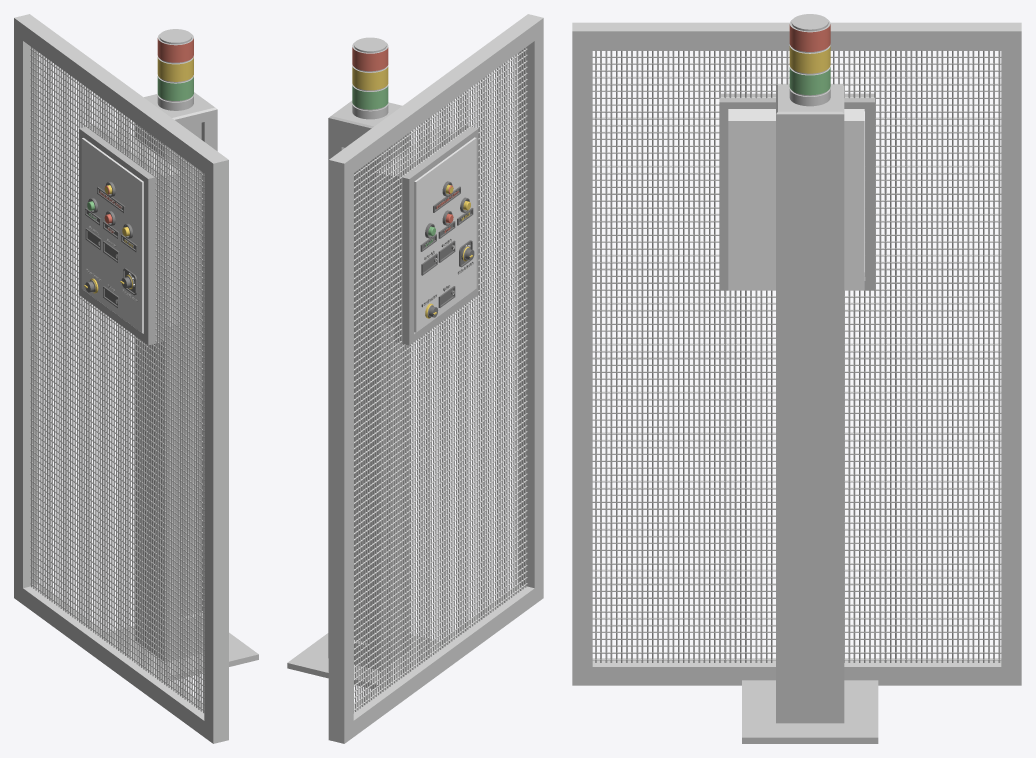
The model's file is Grid_control.glb.
The picture shows the model from 3 angles, left to right: view 1: azimuth 30°, elevation 25°; view 2: azimuth 150°, elevation 25°; view 3: azimuth 270°, elevation 25°; orthographic projection. The views are drawn at different scales.
Visible parts, largest first — view 1: Body1.001, Body2, Body1, Body108, Body66, Body59, Body8.001, Body15.001, Body76, Body69, Body18.001, Body3 (+69 smaller); view 2: Body1.001, Body2, Body1, Body108, Body3, Body12.001, Body19.001, Body70, Body77, Body63, Body9.001, Body26.001 (+69 smaller); view 3: Body1.001, Body2, Body1, Body3, Body108, Body24.001, Body20.001, Body18.001, Body13.001, Body8.001, Body14.001, Body2.001 (+55 smaller).
Boxes of the visible parts, box(x1,y1,x2,y2) form: Body1.001: box(14, 14, 228, 743); Body2: box(135, 29, 217, 661); Body1: box(81, 129, 179, 332); Body108: box(79, 124, 163, 345); Body66: box(177, 154, 179, 694); Body59: box(161, 142, 163, 682); Body8.001: box(44, 57, 46, 597); Body15.001: box(60, 69, 62, 608); Body76: box(200, 171, 202, 711); Body69: box(184, 159, 186, 699); Body18.001: box(67, 74, 69, 613); Body3: box(108, 626, 258, 680); Body1.001: box(328, 14, 543, 743); Body2: box(328, 37, 409, 670); Body1: box(377, 128, 476, 332); Body108: box(393, 125, 478, 345); Body3: box(287, 633, 439, 689); Body12.001: box(368, 161, 370, 701); Body19.001: box(384, 150, 386, 690); Body70: box(501, 64, 503, 604); Body77: box(517, 52, 519, 592); Body63: box(485, 76, 487, 616); Body9.001: box(361, 166, 363, 706); Body26.001: box(400, 138, 402, 678); Body1.001: box(572, 22, 1021, 685); Body2: box(776, 14, 844, 723); Body1: box(728, 109, 864, 290); Body3: box(742, 680, 878, 743); Body108: box(719, 93, 874, 289); Body24.001: box(884, 50, 886, 662); Body20.001: box(905, 50, 907, 662); Body18.001: box(915, 50, 917, 662); Body13.001: box(941, 50, 943, 662); Body8.001: box(967, 50, 969, 662); Body14.001: box(936, 50, 938, 662); Body2.001: box(998, 50, 1000, 662).
Size of the model in its own units: 0.5 by 2.25 by 1.32.
